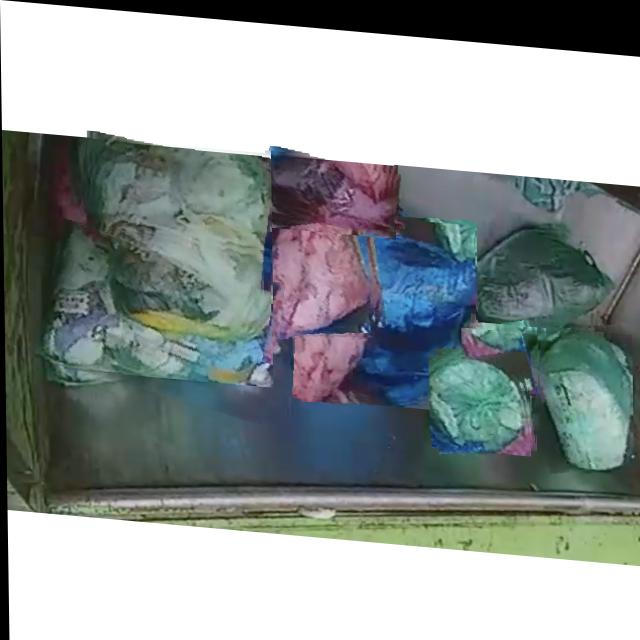general_trashbag: (36, 222, 271, 381), (91, 131, 270, 325), (537, 318, 631, 459), (429, 349, 527, 443)
other_trashbag: (296, 207, 475, 395), (271, 181, 373, 332), (266, 148, 394, 231), (460, 319, 542, 375)
